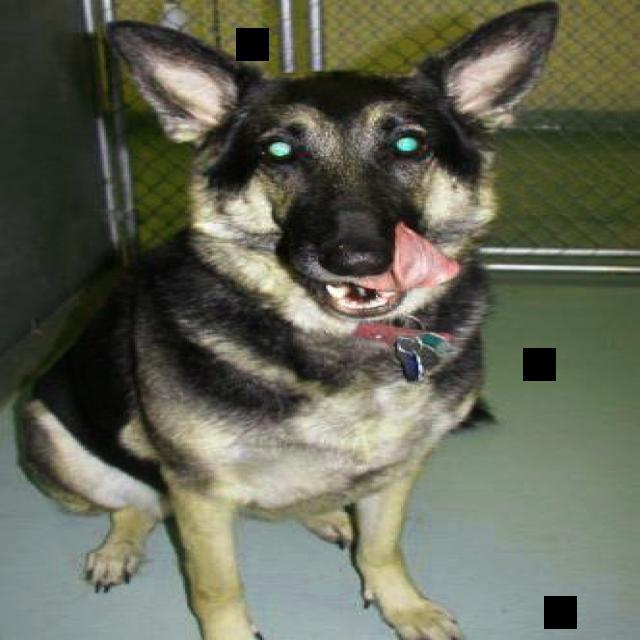adult_dog: (9, 2, 568, 640)
